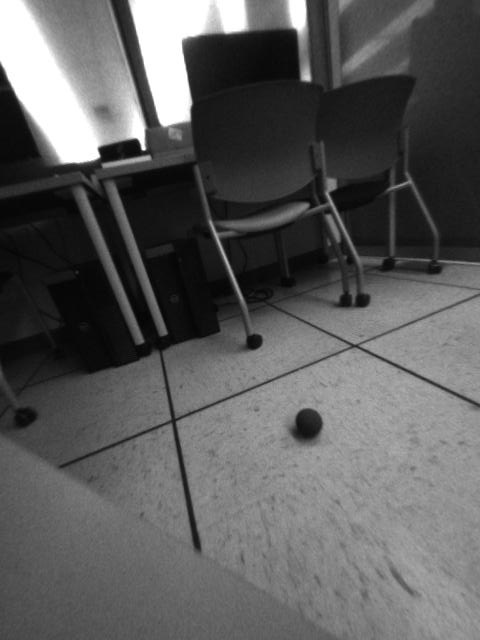dogtoy: (284, 401, 330, 446)
